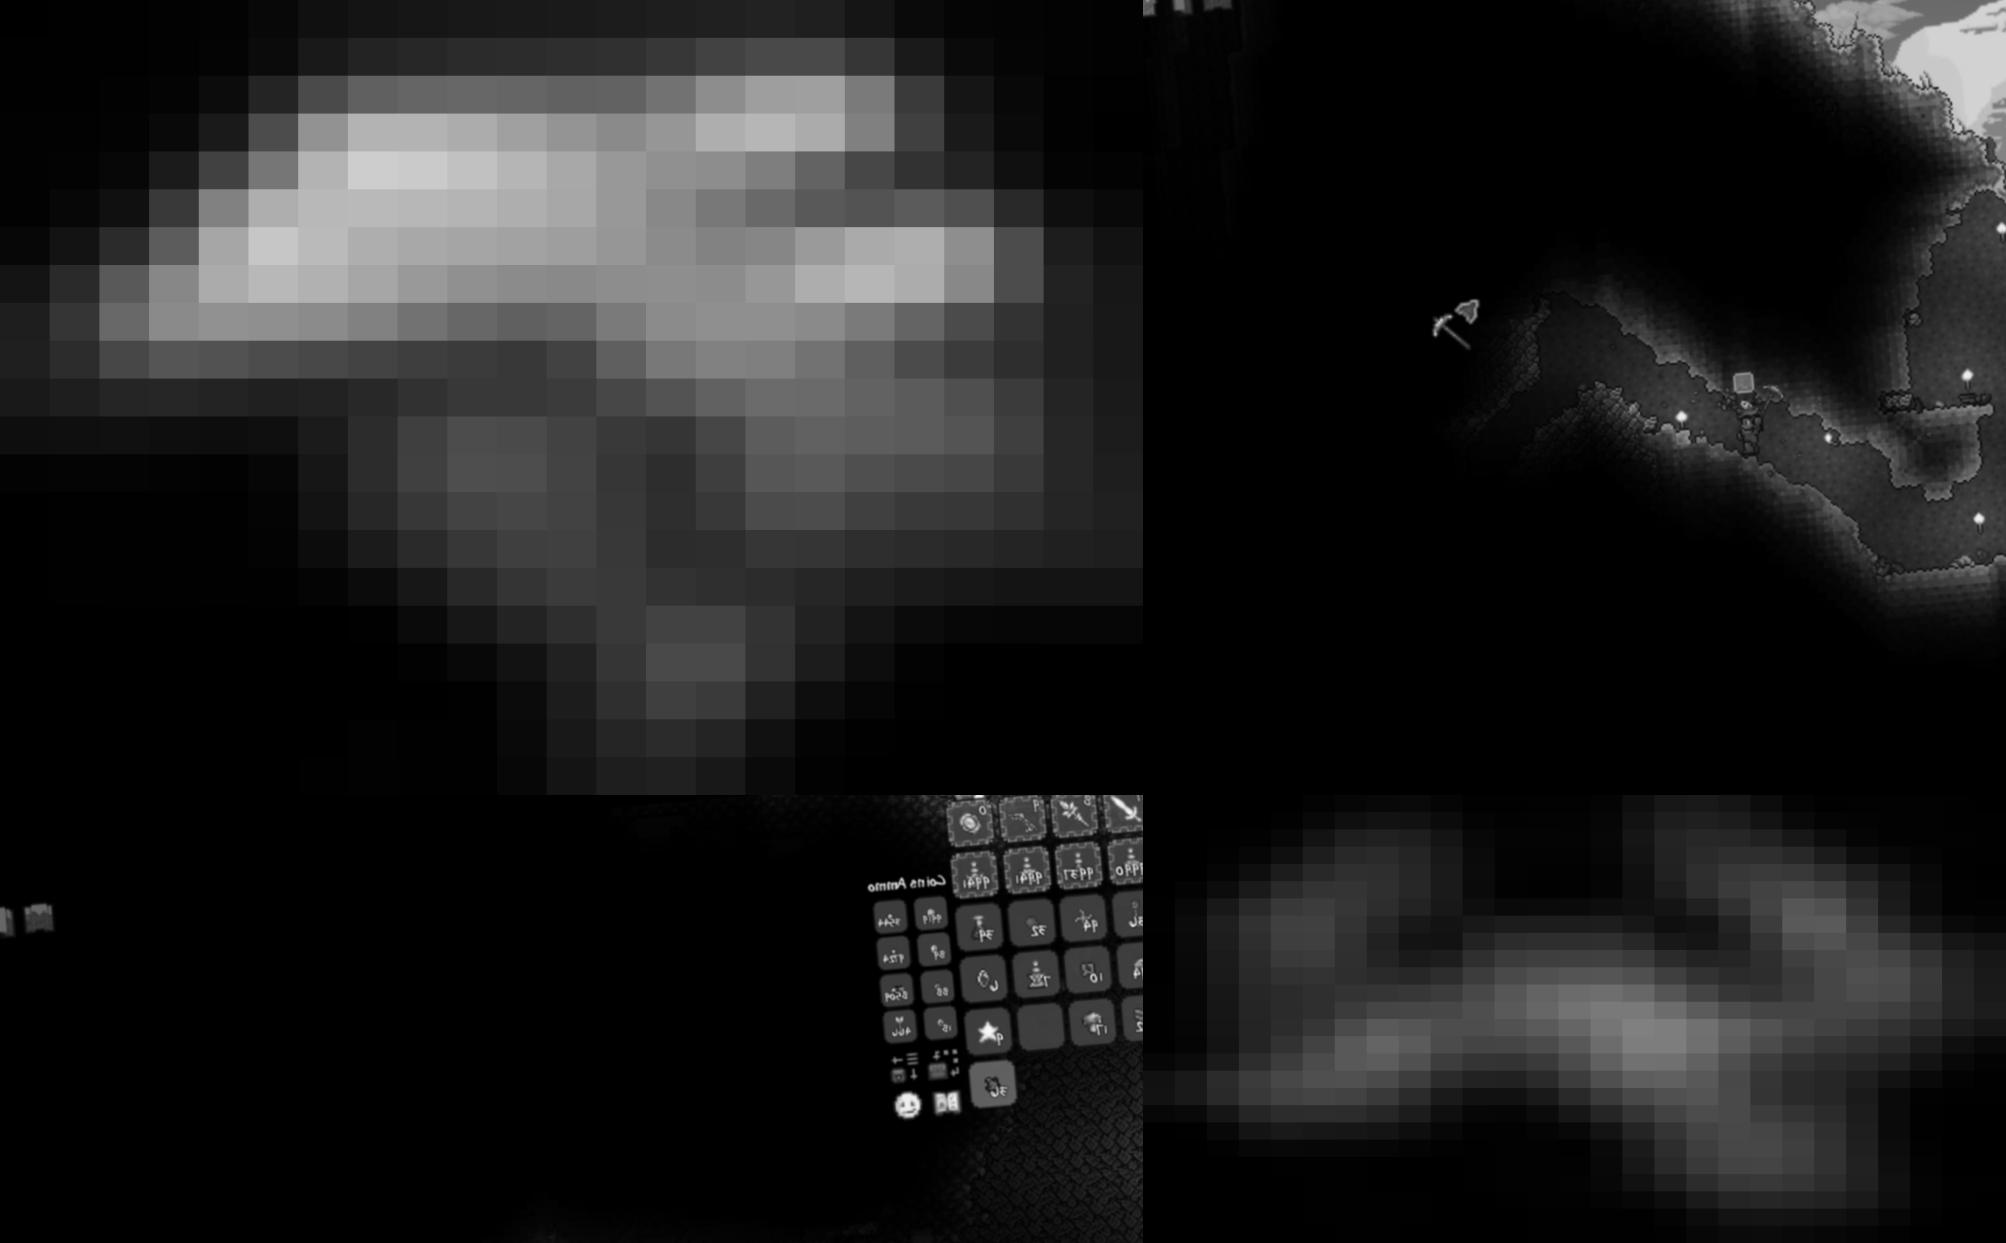helmet: (0, 0, 1143, 796), (1143, 796, 2006, 1243)
mirror: (956, 809, 984, 839)
